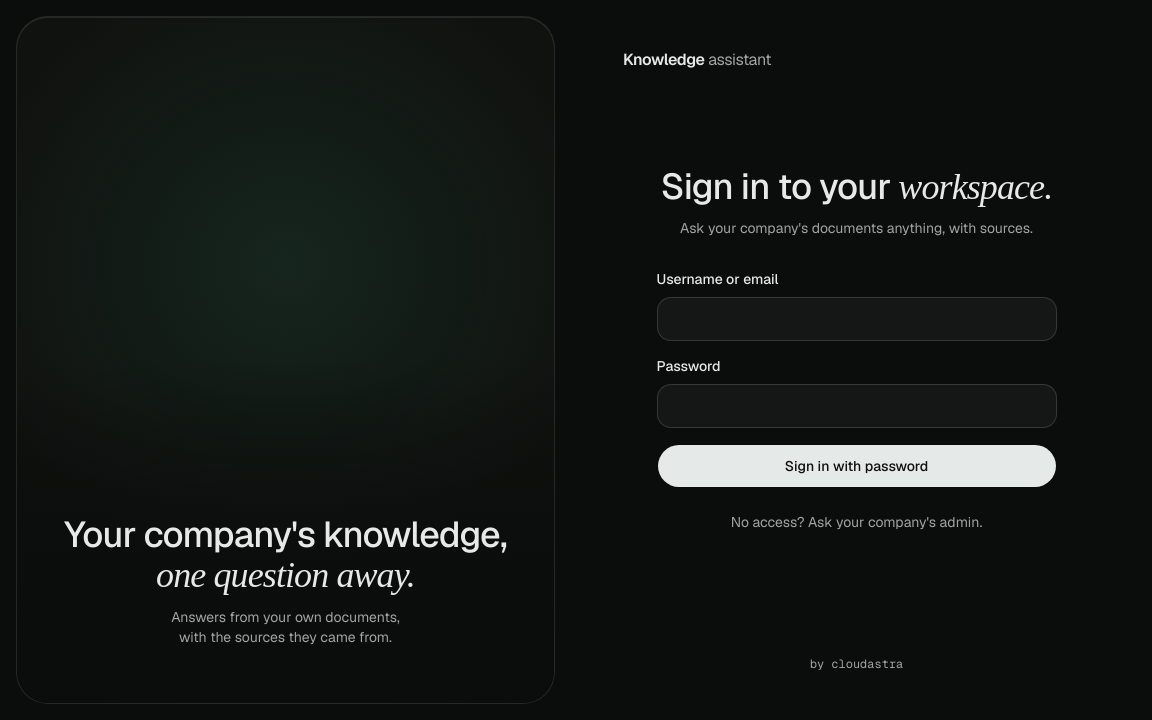
Test case: signed out › sends a deep link to sign-in, then back to it
Type "ada" into the field labelled "Username or email". click: {"x": 856, "y": 319}
box: x1=656 y1=297 x2=1056 y2=341
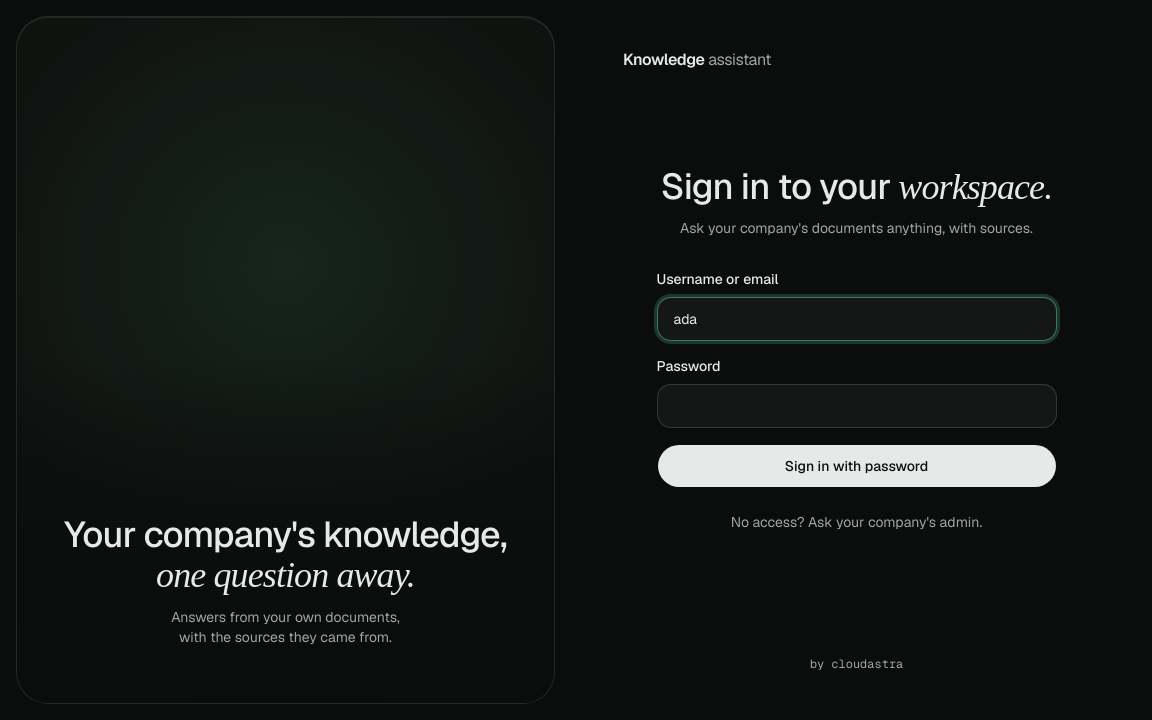
Type "secret" into the password field labelled "Password". click: {"x": 856, "y": 406}
box: x1=656 y1=384 x2=1056 y2=428
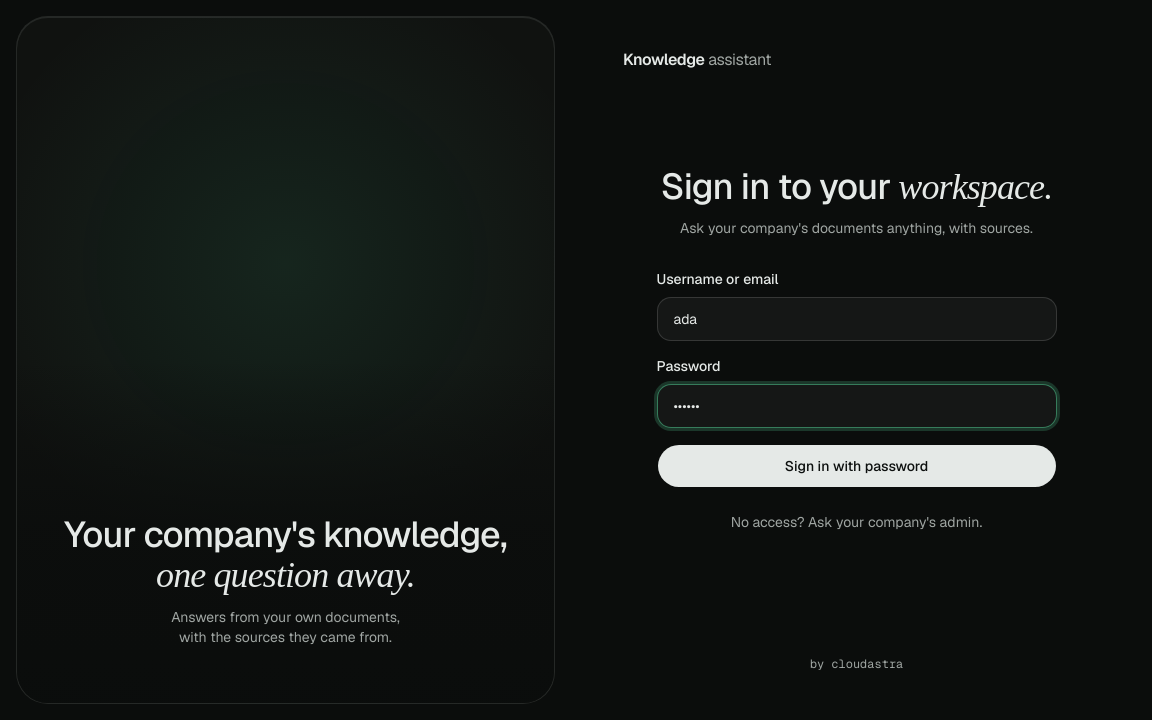
Click the button "Sign in with password". click: {"x": 856, "y": 466}
box: x1=656 y1=444 x2=1056 y2=488
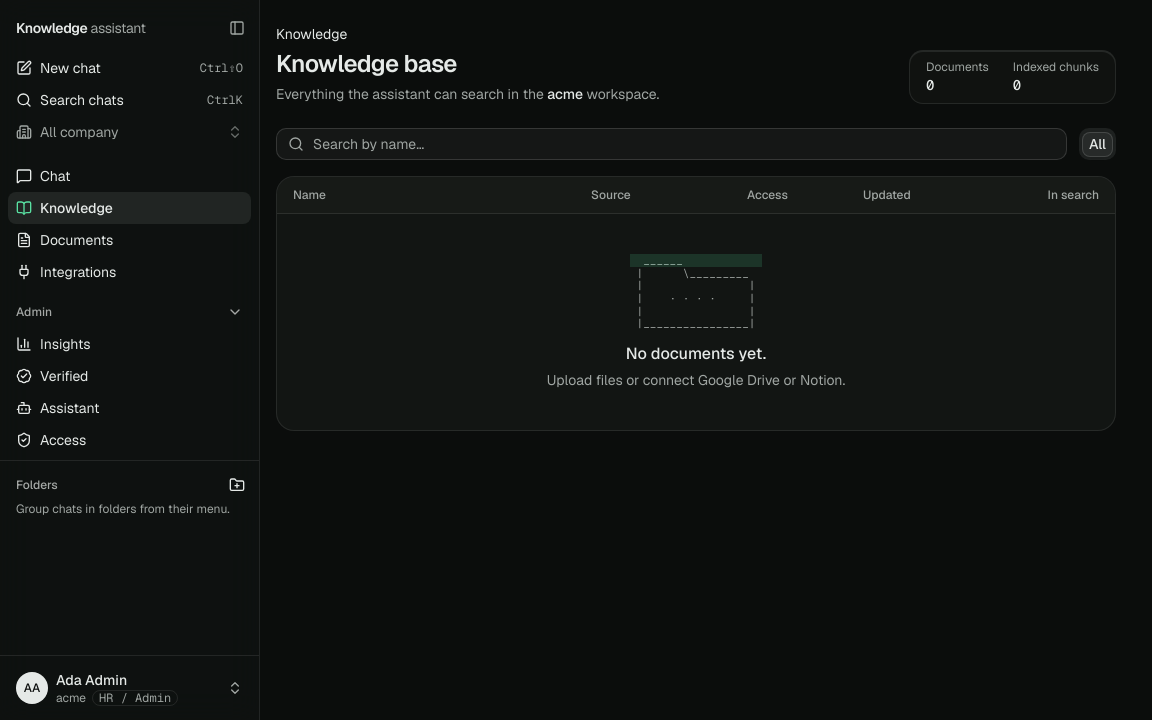
Check: the heading "Knowledge base" is shown, box x1=276 y1=48 x2=457 y2=79
